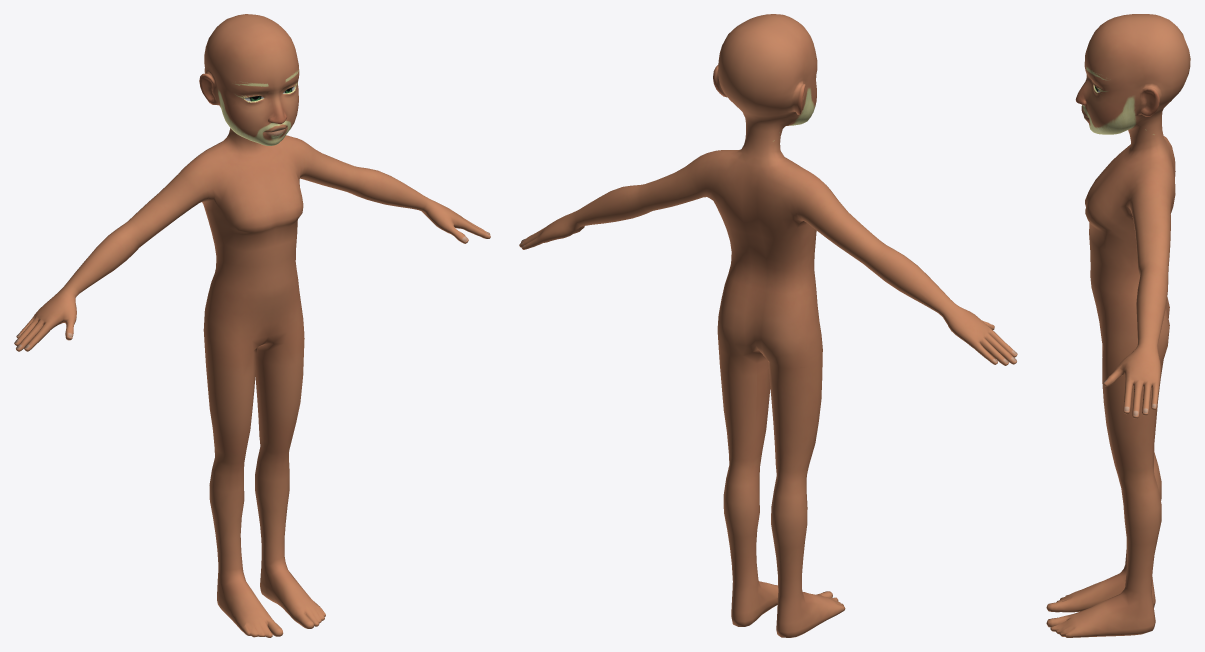
Rendered from frame_0095.glb.
3 views of the same model, side by side, from view 1: azimuth 30°, elevation 25°; view 2: azimuth 150°, elevation 25°; view 3: azimuth 270°, elevation 25° (orthographic). The views are drawn at different scales.
Parts seen in each view (by area): view 1: frame_0095_head_geo; view 2: frame_0095_head_geo; view 3: frame_0095_head_geo.
Boxes of the visible parts, x1,y1,x2,y2 form: frame_0095_head_geo: (14, 14, 490, 637); frame_0095_head_geo: (519, 14, 1017, 637); frame_0095_head_geo: (1046, 14, 1190, 637).
Size of the model in its own units: 1.28 by 1.5 by 0.3253.
3 materials, 3 textured.
